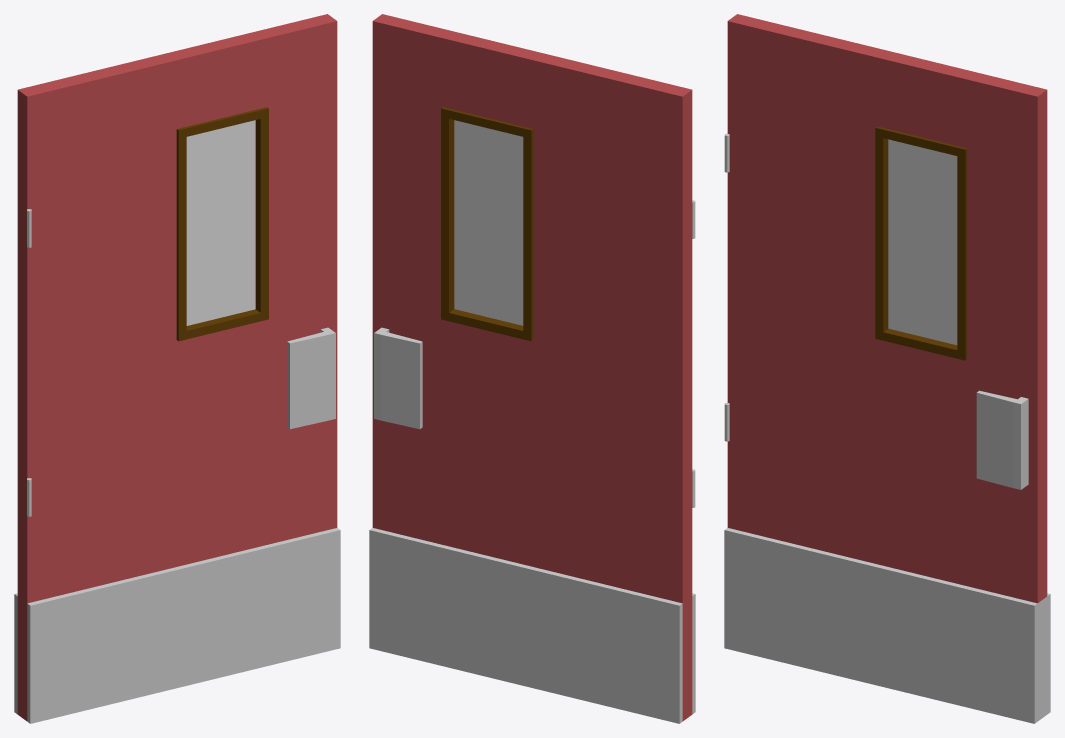
File: door_double.fbx
3 views of the same model, side by side, from view 1: azimuth 30°, elevation 25°; view 2: azimuth 150°, elevation 25°; view 3: azimuth 330°, elevation 25° (orthographic).
Visible parts, largest first — view 1: H_Door_Double_1; view 2: H_Door_Double_1; view 3: H_Door_Double_1.
Boxes of the visible parts, box(x1,y1,x2,y2) form: H_Door_Double_1: box(14, 14, 340, 723); H_Door_Double_1: box(369, 14, 695, 723); H_Door_Double_1: box(724, 14, 1050, 723).
Bounding box in the file's own units: 662 × 1268 × 91.51.
